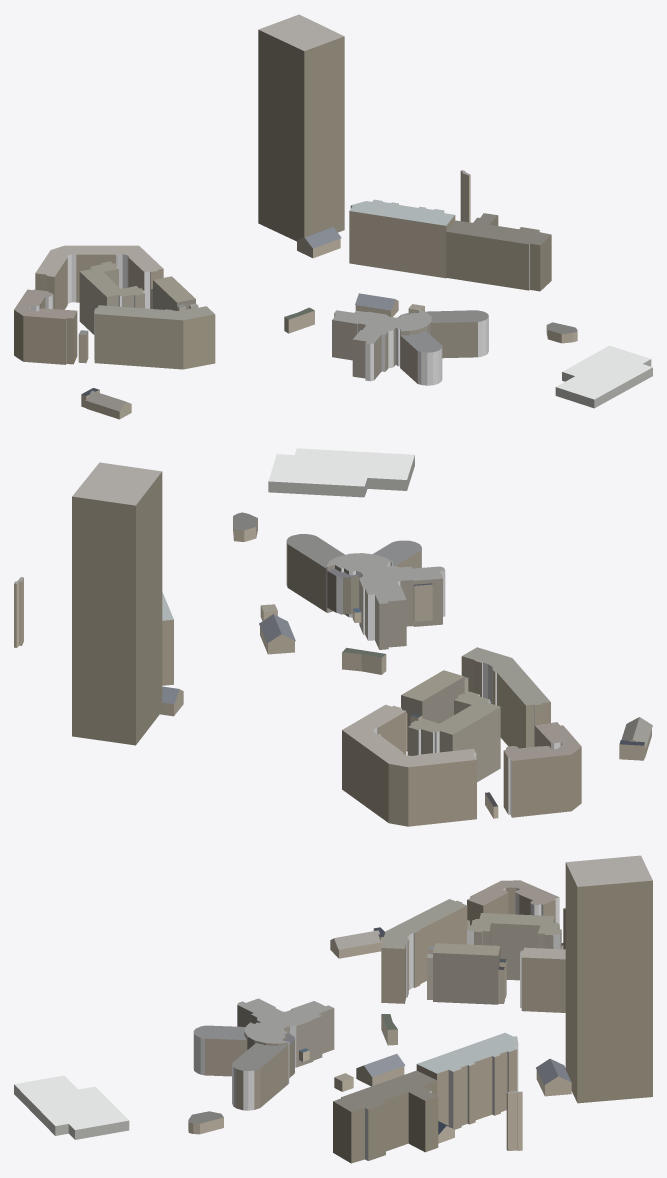
3 renders of one model, top to bottom at view 1: azimuth 30°, elevation 25°; view 2: azimuth 150°, elevation 25°; view 3: azimuth 270°, elevation 25°, orthographic. The views are drawn at different scales.
Parts seen in each view (by area): view 1: tuile; view 2: tuile; view 3: tuile.
Boxes of the visible parts, x1,y1,x2,y2 form: tuile: [14, 14, 652, 419]; tuile: [14, 448, 652, 826]; tuile: [14, 855, 652, 1163].
Bounding box in the file's own units: 249 × 114 × 267.
